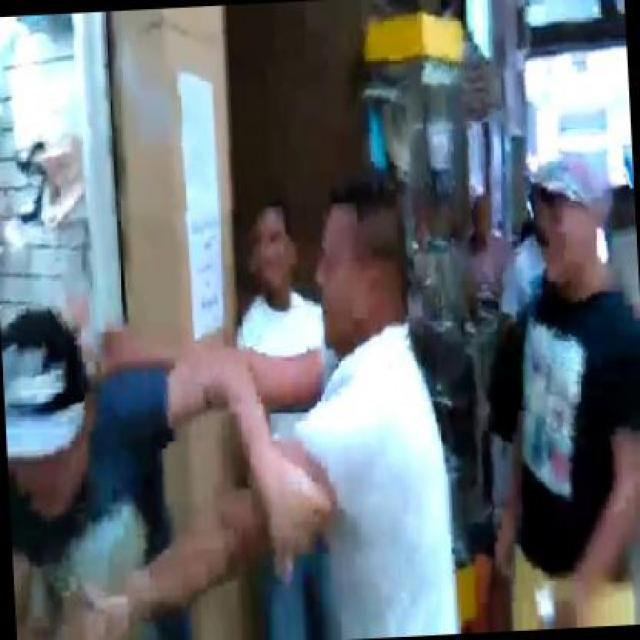fight: (0, 184, 455, 638)
